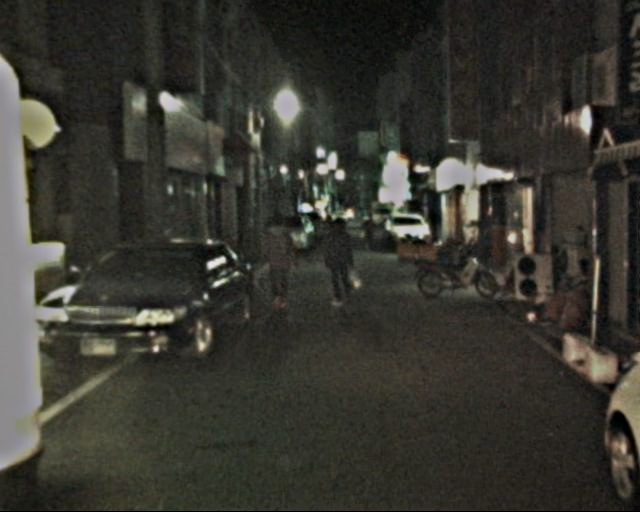person: (319, 216, 363, 312), (259, 215, 299, 312), (360, 211, 378, 254)
